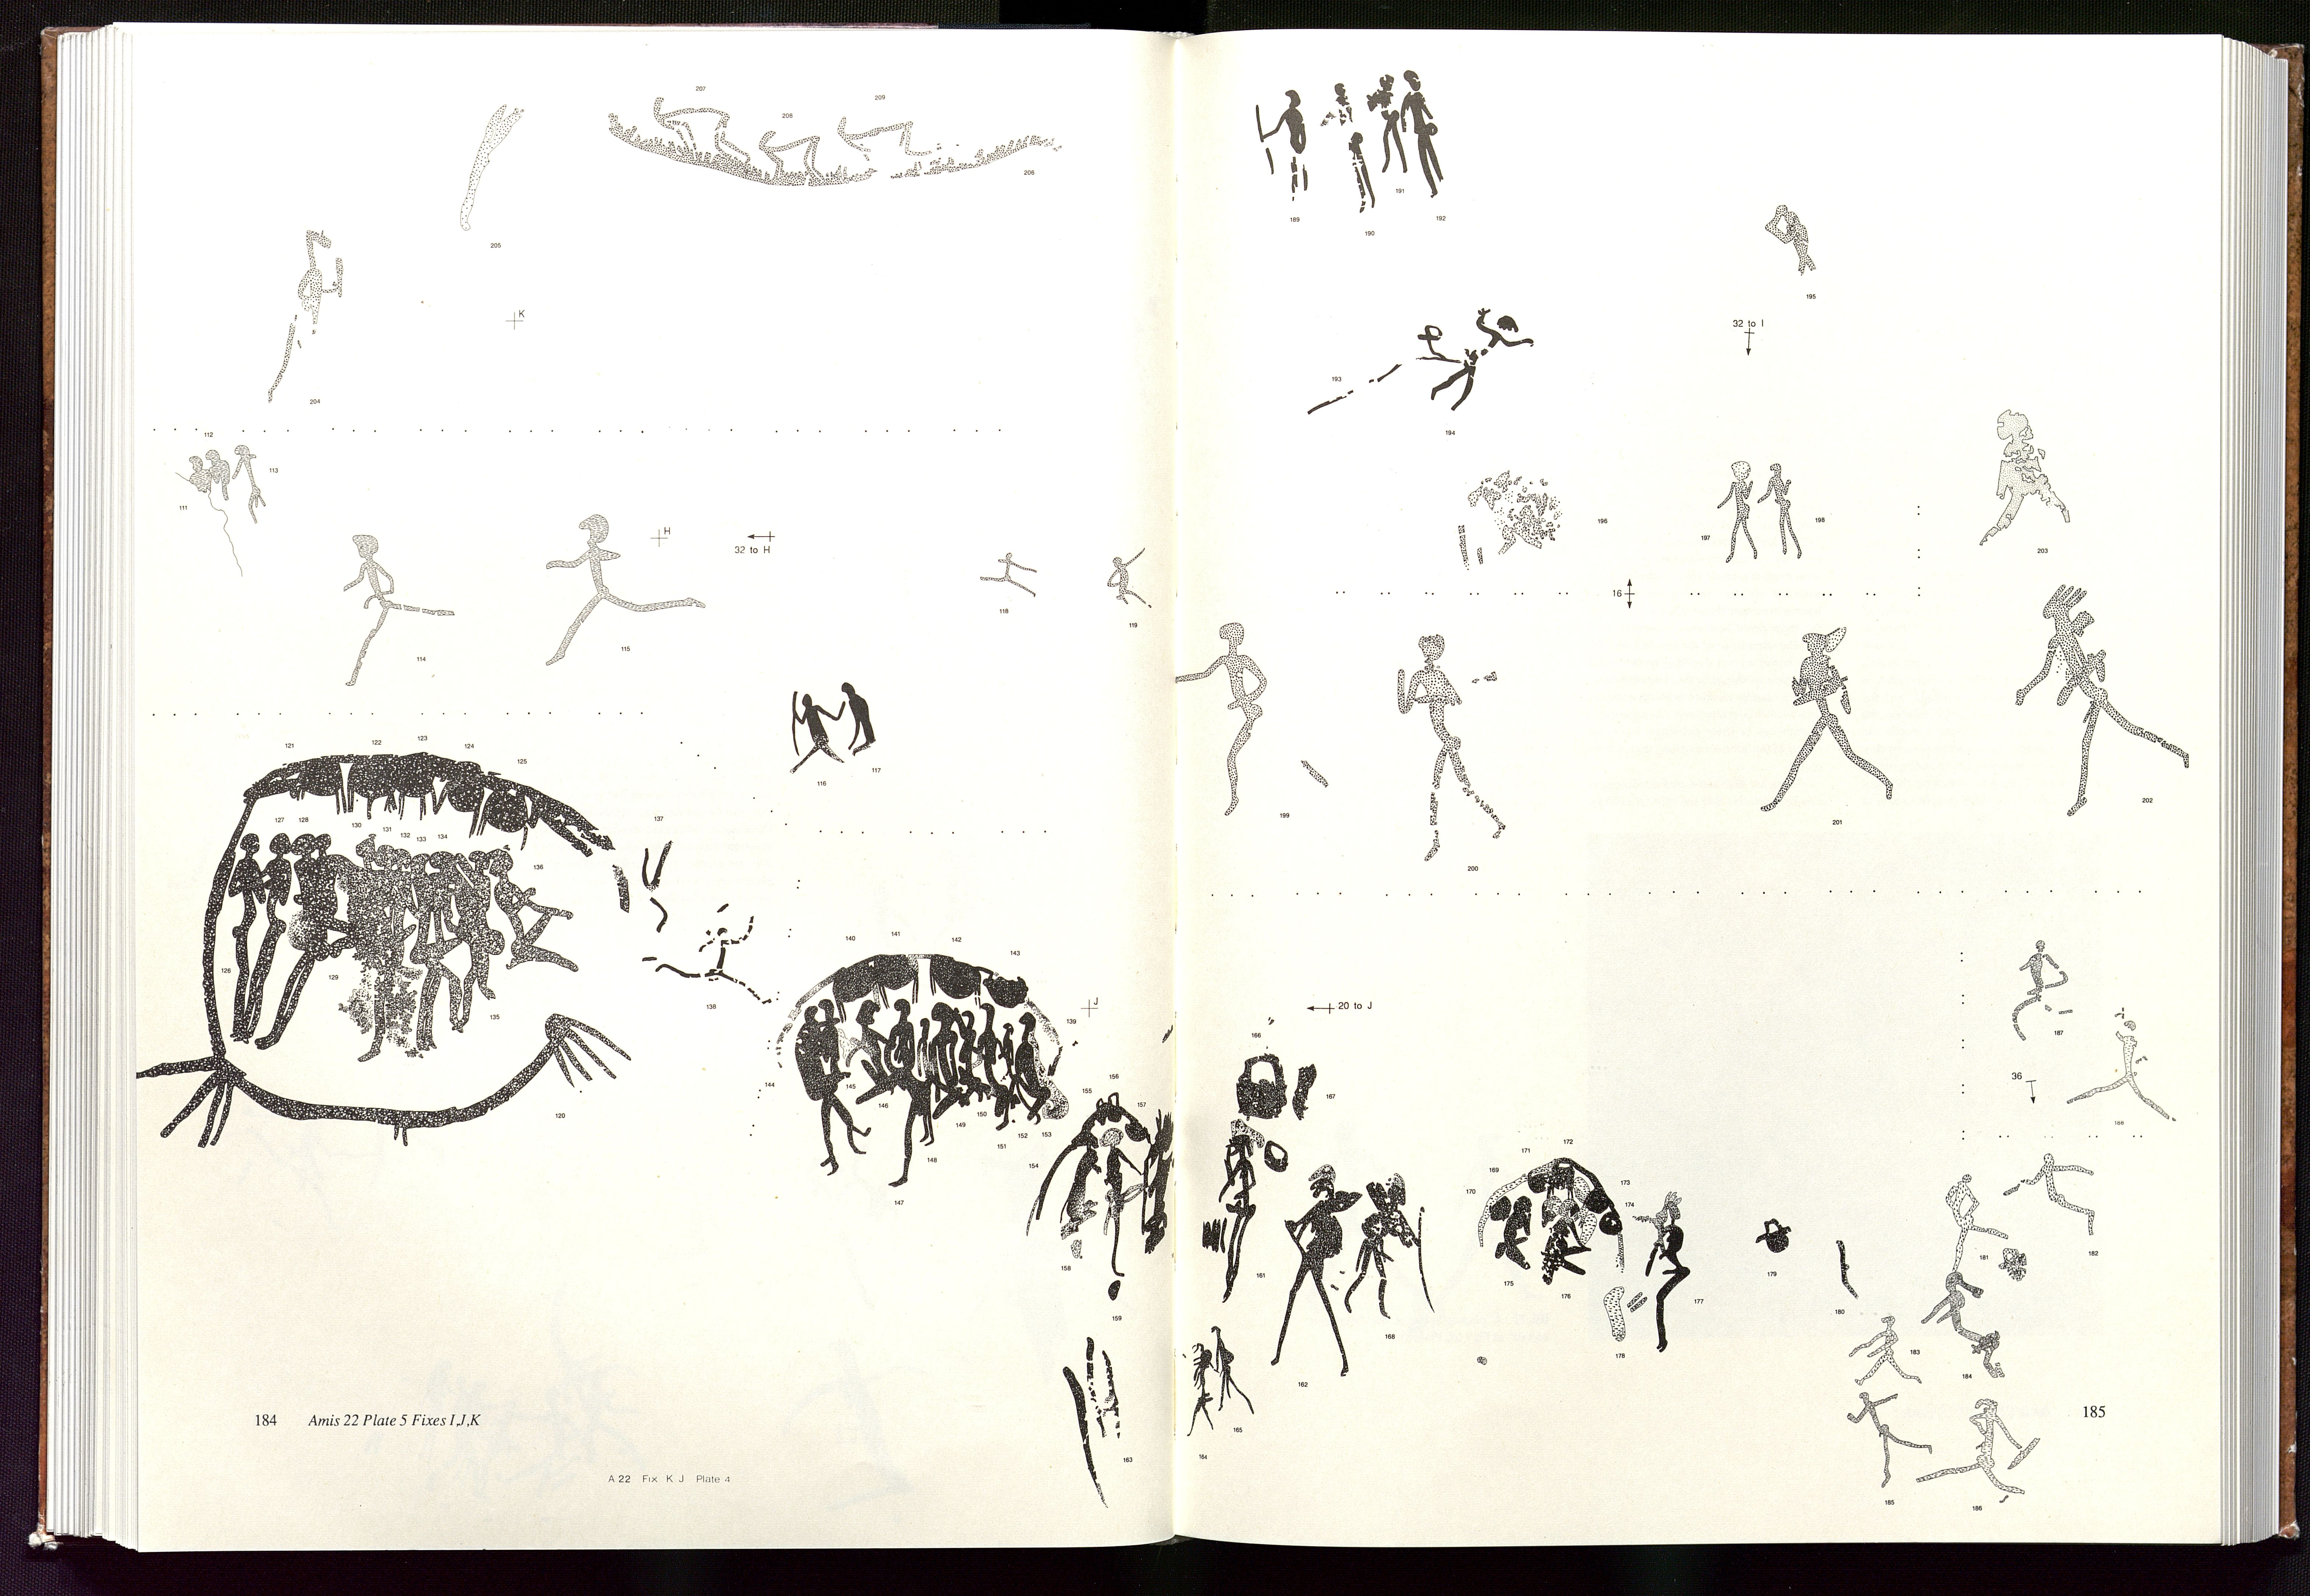human: (2014, 583, 2194, 815), (1172, 622, 1330, 816), (1394, 631, 1508, 863), (1757, 626, 1894, 818), (548, 511, 707, 669), (253, 834, 358, 1064), (1271, 1165, 1366, 1381), (341, 530, 458, 691), (1339, 1167, 1438, 1325), (262, 227, 344, 408), (486, 844, 583, 990), (2061, 1021, 2183, 1134), (1915, 1398, 2042, 1503), (1978, 407, 2073, 545), (654, 915, 773, 1014), (1429, 305, 1535, 415), (285, 834, 361, 983), (244, 828, 291, 1053), (1634, 1192, 1696, 1357), (1837, 1388, 1933, 1490), (1927, 1270, 2011, 1382), (1315, 72, 1379, 217), (2004, 1152, 2107, 1238), (229, 834, 266, 1050), (1254, 87, 1315, 211), (461, 850, 508, 1014), (817, 997, 859, 1177), (2011, 939, 2077, 1050), (851, 1000, 910, 1118), (1099, 1127, 1143, 1285), (1399, 65, 1450, 199), (1220, 1133, 1258, 1305), (1940, 1171, 2005, 1271), (788, 1003, 850, 1102), (977, 1000, 1019, 1139), (1841, 1316, 1924, 1389), (900, 1015, 943, 1155), (1755, 461, 1808, 564), (788, 690, 845, 778), (1759, 200, 1822, 276), (1368, 71, 1411, 178), (1718, 458, 1760, 563), (1016, 1012, 1053, 1130), (834, 682, 878, 765), (1491, 1195, 1535, 1274), (1106, 547, 1156, 613), (231, 445, 268, 533), (975, 554, 1041, 601), (203, 449, 246, 508), (1189, 1339, 1214, 1438)
